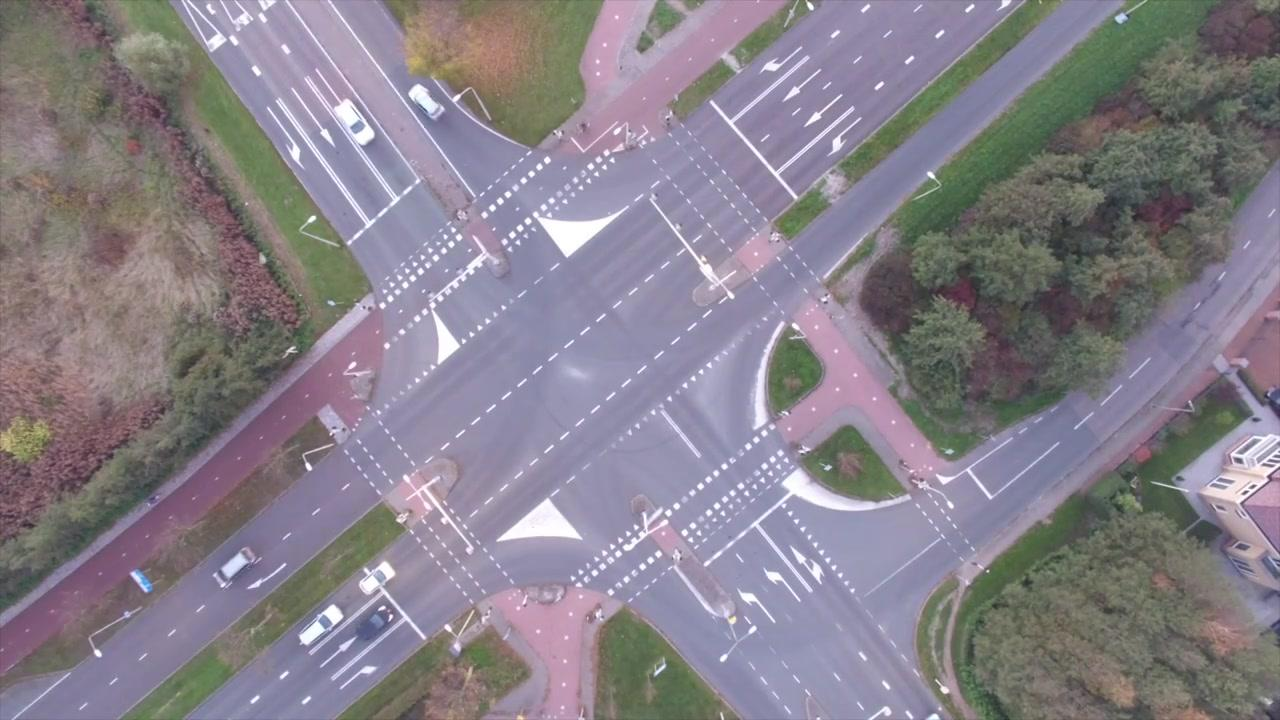car: (295, 604, 344, 649), (332, 97, 376, 147), (210, 544, 257, 590), (407, 82, 446, 121), (354, 604, 395, 640), (358, 559, 396, 596)
